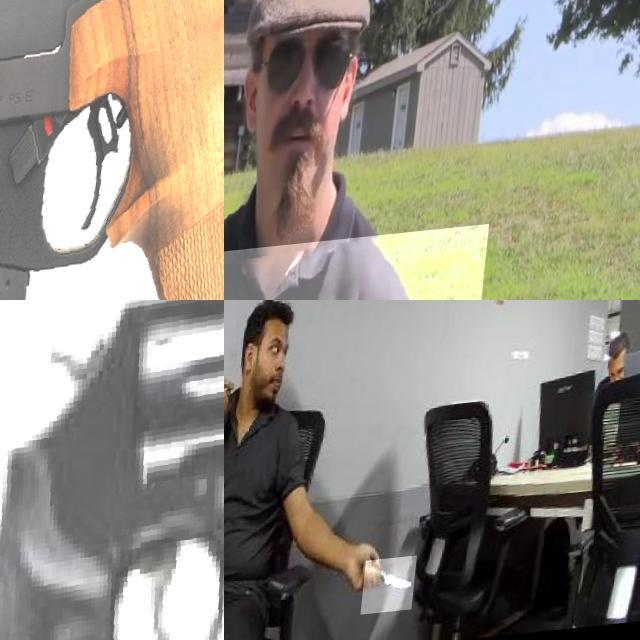-: (374, 563, 429, 621)
gun-knife-thesis - v11 Yolov5 augmented: (0, 300, 224, 640), (0, 0, 224, 300)
